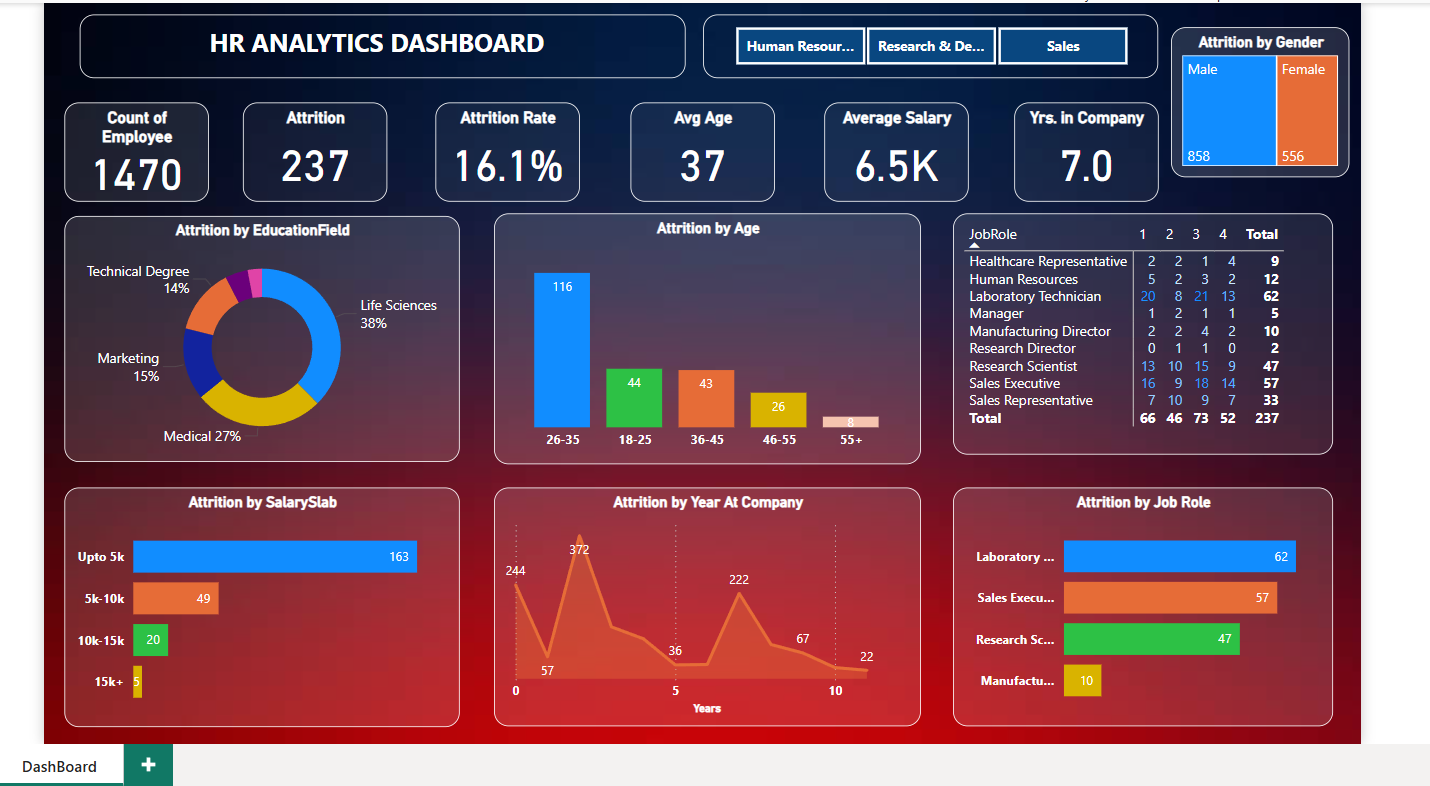

This screenshot's page, from the dashboard's own definition file:
{"tool":"powerbi","page":{"name":"DashBoard","canvas":[1280,720],"ordinal":0},"visuals":[{"type":"card","title":"Count of Employee","fields":{"Values":["CountNonNull(HR_Analytics.EmpID)"]},"box":[19.8,96.7,140.1,96.7],"z":0},{"type":"card","title":"Attrition","fields":{"Values":["Sum(HR_Analytics.AttritionCount)"]},"box":[193.4,96.7,140.1,96.7],"z":1000},{"type":"card","title":"Attrition Rate","fields":{"Values":["HR_Analytics.Attrition_Rate"]},"box":[380.5,96.7,140.1,96.7],"z":2000},{"type":"card","title":"Avg Age","fields":{"Values":["Avg(HR_Analytics.Age)"]},"box":[570.2,96.7,140.1,96.7],"z":3000},{"type":"card","title":"Average Salary","fields":{"Values":["Avg(HR_Analytics.MonthlyIncome)"]},"box":[758.6,96.7,140.1,96.7],"z":4000},{"type":"columnChart","title":" Attrition by Age","fields":{"Y":["Sum(HR_Analytics.AttritionCount)"],"Category":["HR_Analytics.AgeGroup"]},"box":[437.5,204.5,415.2,244.2],"z":5000},{"type":"donutChart","title":" Attrition by EducationField","fields":{"Category":["HR_Analytics.EducationField"],"Y":["Sum(HR_Analytics.AttritionCount)"]},"box":[19.8,207,384.2,239.2],"z":6000},{"type":"pivotTable","fields":{"Values":["Sum(HR_Analytics.AttritionCount)"],"Columns":["HR_Analytics.JobSatisfaction"],"Rows":["HR_Analytics.JobRole"]},"box":[883.7,204.5,369.4,234.3],"z":7000},{"type":"barChart","title":" Attrition by SalarySlab","fields":{"Category":["HR_Analytics.SalarySlab"],"Y":["Sum(HR_Analytics.AttritionCount)"]},"box":[19.8,471,384.2,233],"z":8000},{"type":"areaChart","title":" Attrition by Year At Company","fields":{"Category":["HR_Analytics.YearsInCurrentRole"],"Y":["CountNonNull(HR_Analytics.AgeGroup)"]},"box":[437.5,471,415.2,231.8],"z":9000},{"type":"barChart","title":" Attrition by Job Role","fields":{"Y":["Sum(HR_Analytics.AttritionCount)"],"Category":["HR_Analytics.JobRole"]},"box":[883.7,471,369.4,231.8],"z":10000},{"type":"treemap","title":" Attrition by Gender","fields":{"Values":["CountNonNull(HR_Analytics.AgeGroup)"],"Group":["HR_Analytics.Gender"]},"box":[1095.7,23.6,173.5,146.3],"z":11000},{"type":"card","title":"Yrs. in Company","fields":{"Values":["Avg(HR_Analytics.YearsAtCompany)"]},"box":[943.2,96.7,140.1,96.7],"z":12000},{"type":"slicer","fields":{"Values":["HR_Analytics.Department"]},"box":[640.8,11.2,442.5,62],"z":13000},{"type":"textbox","box":[34.7,11.2,588.8,62],"z":14000}]}

Visuals, with their boxes in screenshot pixels (x1, y1, x2, y2):
"Count of Employee" card: box(36, 89, 187, 193)
"Attrition" card: box(223, 89, 374, 193)
"Attrition Rate" card: box(424, 89, 575, 193)
"Avg Age" card: box(629, 89, 779, 193)
"Average Salary" card: box(831, 89, 982, 193)
" Attrition by Age" columnChart: box(486, 205, 933, 468)
" Attrition by EducationField" donutChart: box(36, 208, 450, 465)
pivotTable - Sum(HR_Analytics.AttritionCount) x HR_Analytics.JobSatisfaction: box(966, 205, 1364, 457)
" Attrition by SalarySlab" barChart: box(36, 492, 450, 743)
" Attrition by Year At Company" areaChart: box(486, 492, 933, 741)
" Attrition by Job Role" barChart: box(966, 492, 1364, 741)
" Attrition by Gender" treemap: box(1194, 10, 1381, 168)
"Yrs. in Company" card: box(1030, 89, 1181, 193)
slicer - HR_Analytics.Department: box(705, 0, 1181, 64)
textbox: box(52, 0, 686, 64)
